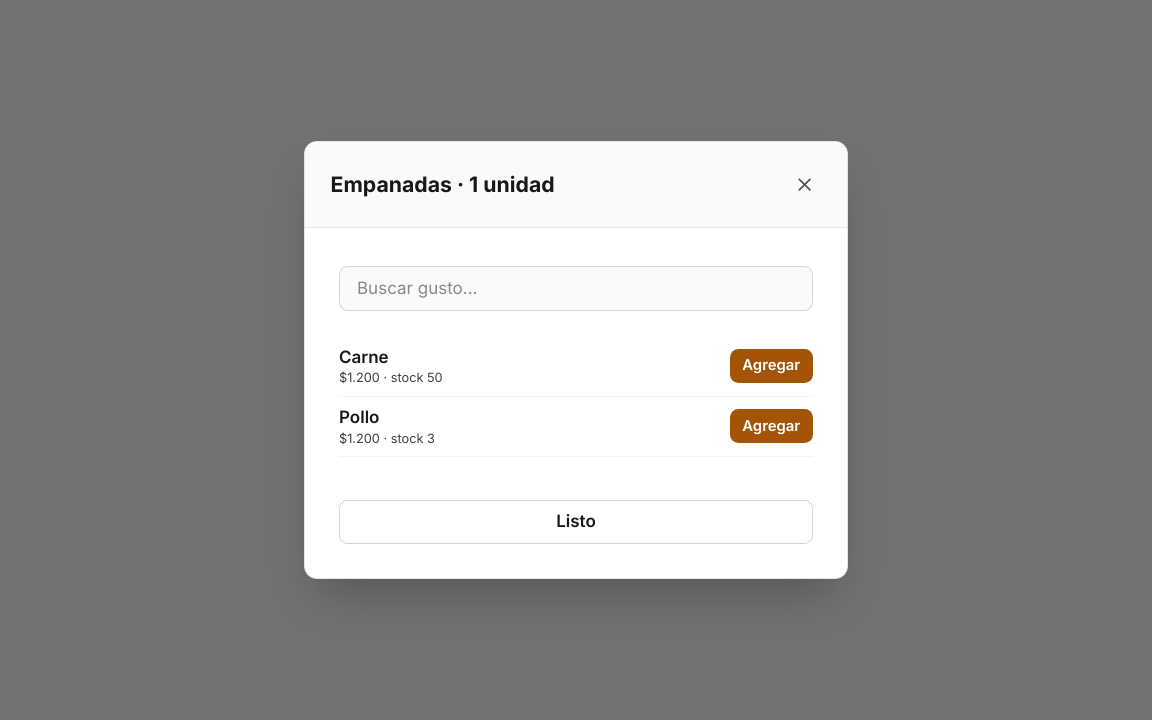
Test case: lista de gustos de una presentación (US-5 CA-2 a CA-4) › muestra el precio y el stock que queda, descontando lo del pedido
Check: the text "$1.200 · stock 3" is shown, box [339,431,435,446]
Click the button "Agregar" in the row of "Pollo". click: (771, 426)
box: [730,409,813,443]
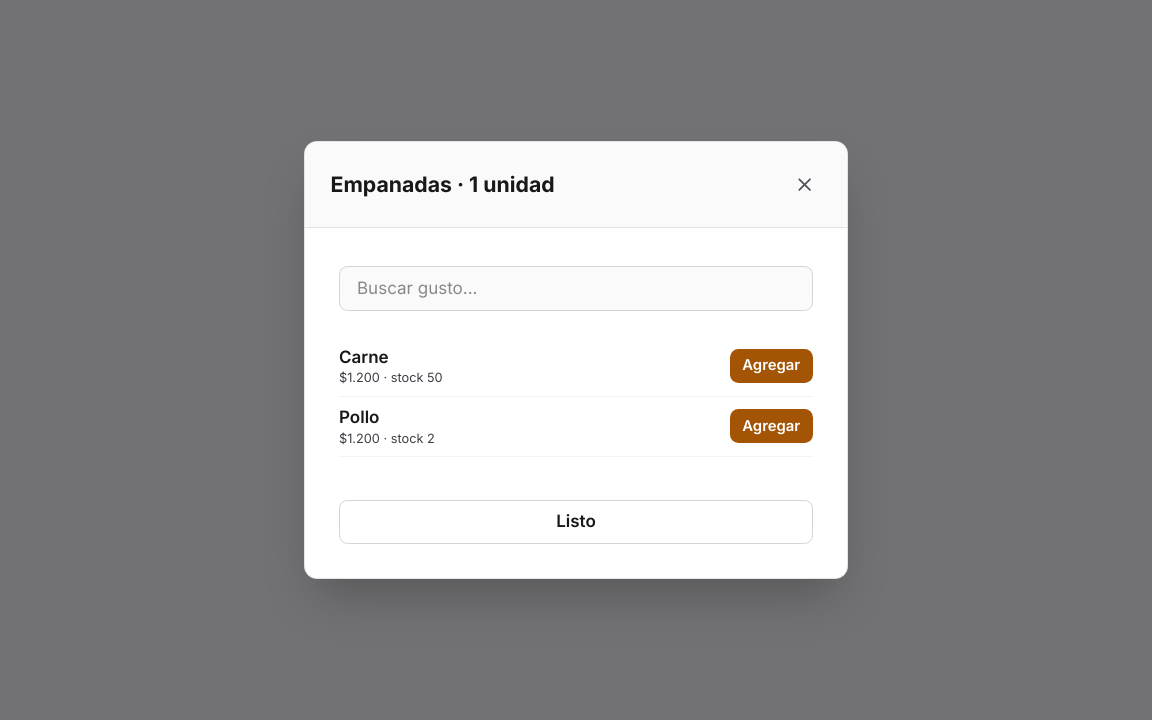
Check: the text "$1.200 · stock 2" is shown, box [339,431,435,446]
